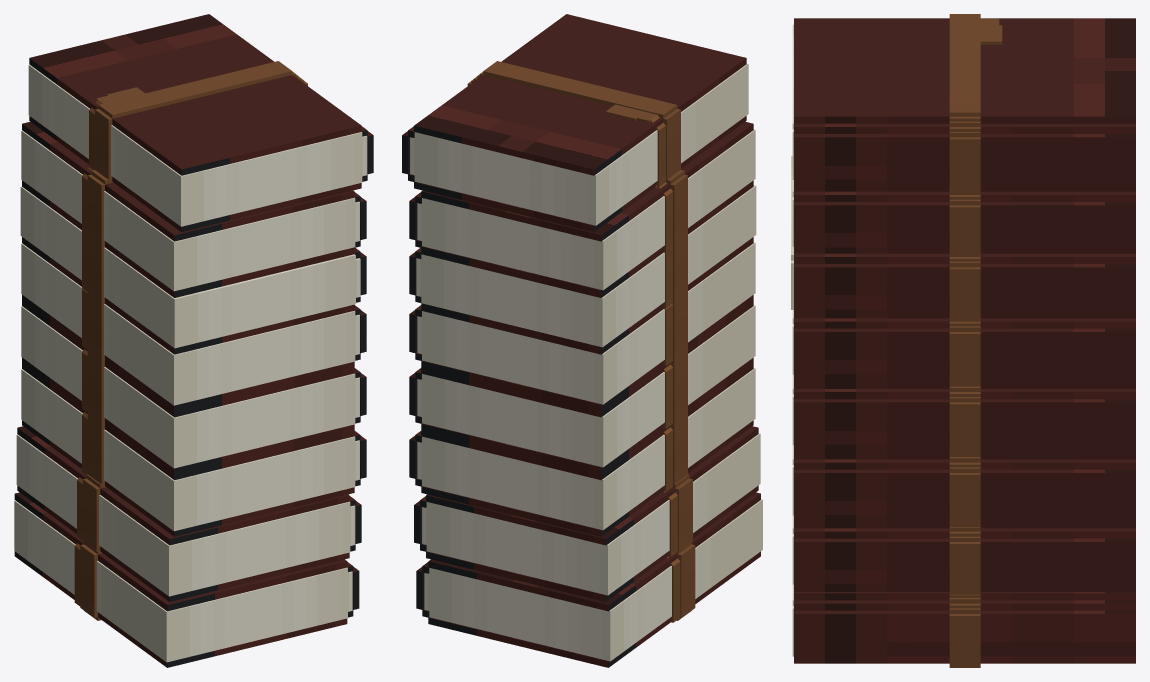
File: stack_of_books_8.gltf
3 renders of one model, left to right at view 1: azimuth 30°, elevation 25°; view 2: azimuth 150°, elevation 25°; view 3: azimuth 270°, elevation 25°, orthographic. The views are drawn at different scales.
Parts seen in each view (by area): view 1: int_cube_book_stack (×33); view 2: int_cube_book_stack (×33); view 3: int_cube_book_stack (×50).
Part boxes in pixels (left/top/right/bottom): int_cube_book_stack (×33): left=14, top=14, right=362, bottom=667; int_cube_book_stack (×33): left=414, top=14, right=762, bottom=667; int_cube_book_stack (×50): left=794, top=14, right=1135, bottom=663.
Size of the model in its own units: 0.5563 by 1.25 by 0.6937.
Materials: 3 (3 with a texture image).
